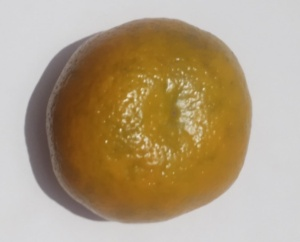BAD: (40, 17, 254, 227)
